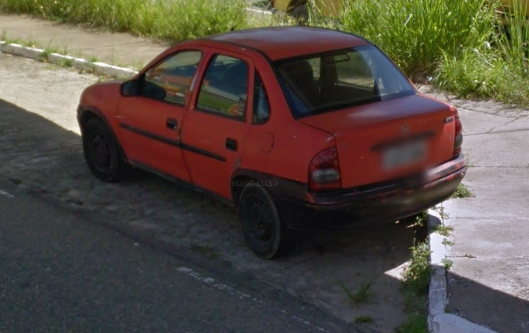car: (75, 23, 469, 262)
